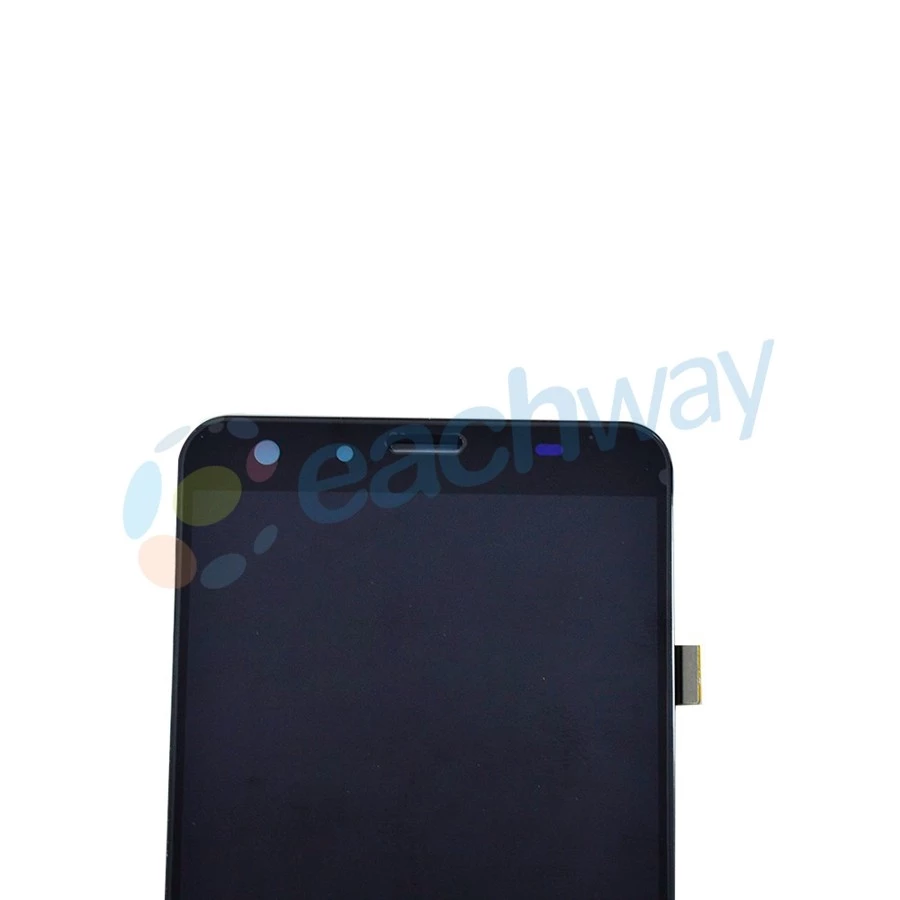Phone: (157, 411, 680, 900)
